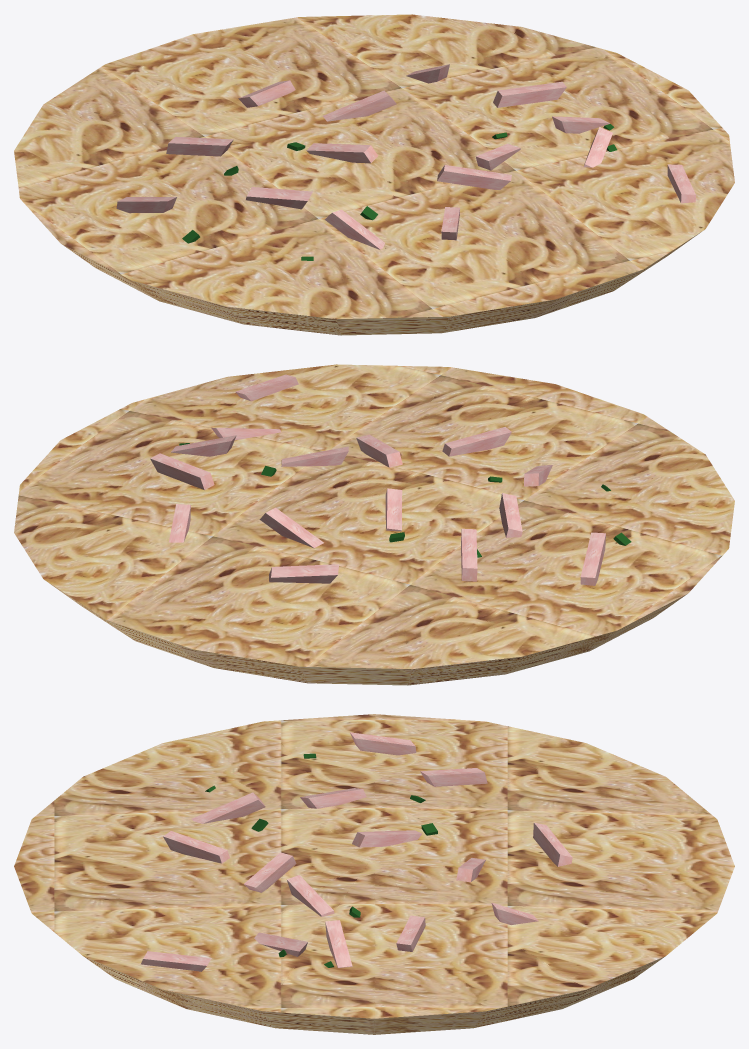
The model's file is CarbonaraInPan.fbx.
The picture shows the model from 3 angles, top to bottom: view 1: azimuth 30°, elevation 25°; view 2: azimuth 150°, elevation 25°; view 3: azimuth 270°, elevation 25°; orthographic projection.
Parts seen in each view (by area): view 1: pCube31; view 2: pCube31; view 3: pCube31.
Part boxes in pixels (left/top/right/bottom): pCube31: left=14, top=14, right=734, bottom=335; pCube31: left=14, top=364, right=734, bottom=685; pCube31: left=14, top=714, right=734, bottom=1034.
Bounding box in the file's own units: 10.6 × 1.11 × 10.6.
